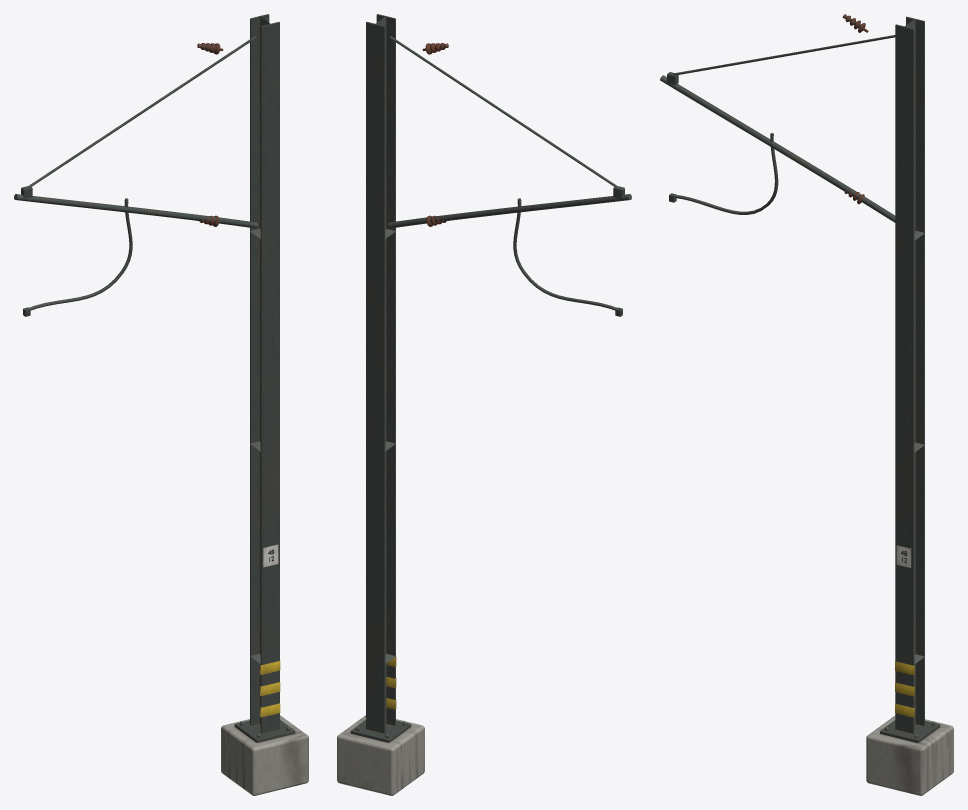
File: ul_slup_trak.glb
3 views of the same model, side by side, from view 1: azimuth 30°, elevation 25°; view 2: azimuth 150°, elevation 25°; view 3: azimuth 330°, elevation 25° (orthographic).
Parts seen in each view (by area): view 1: Slup; view 2: Slup; view 3: Slup.
Part boxes in pixels (x1=…): Slup: x1=14, y1=14, x2=308, y2=795; Slup: x1=337, y1=14, x2=631, y2=795; Slup: x1=660, y1=14, x2=953, y2=795.
Bounding box in the file's own units: 3.02 × 7.85 × 0.62.
Materials: 1 (1 with a texture image).
